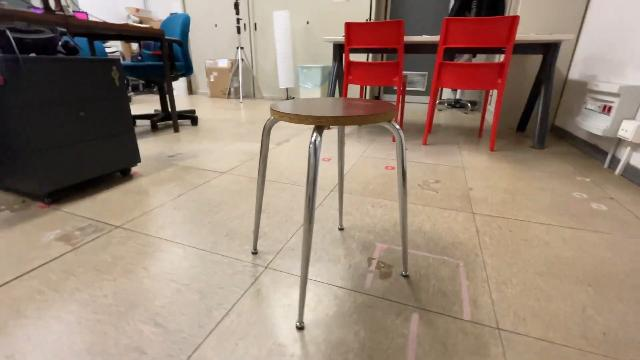Chair: (420, 11, 522, 155), (336, 16, 410, 144)
Lamp: (270, 8, 298, 102)
Stool: (250, 94, 412, 334)
